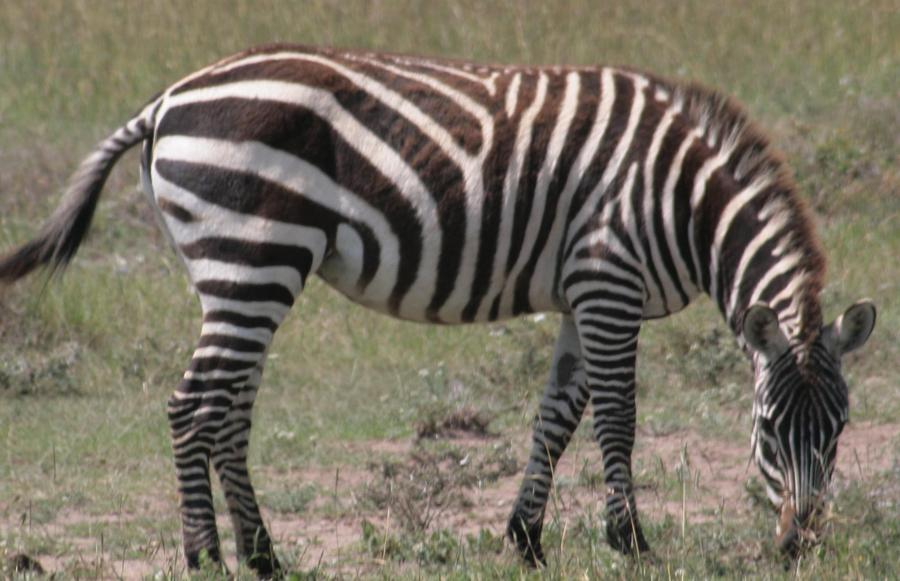zebra_plains: (179, 35, 692, 336)
